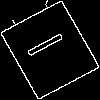I: (25, 25, 74, 60)
